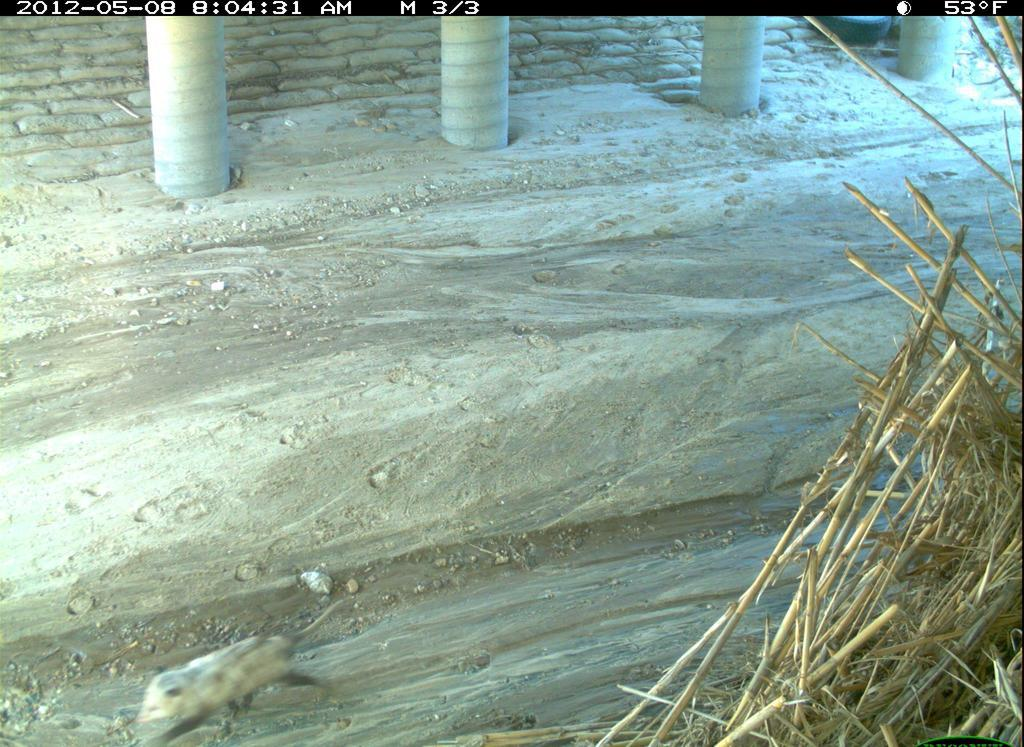opossum: (130, 593, 361, 747)
